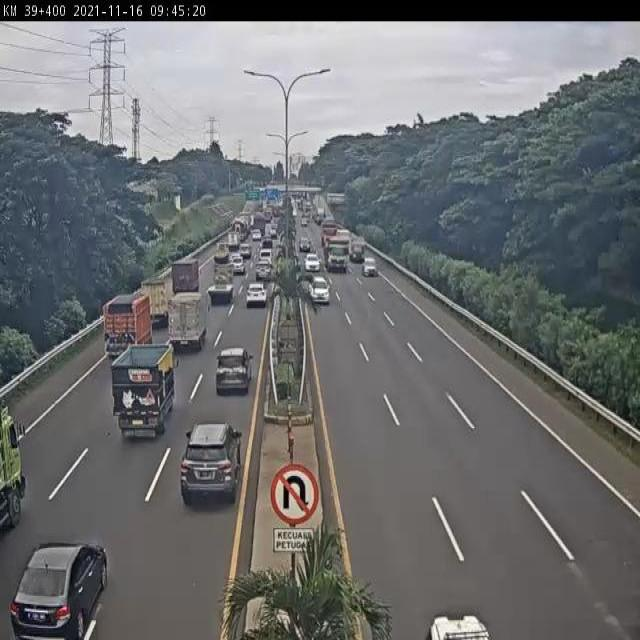car: (11, 544, 106, 640), (178, 420, 243, 503), (213, 352, 252, 400), (309, 276, 331, 304), (245, 285, 267, 312), (234, 245, 253, 268), (230, 257, 247, 279), (257, 253, 274, 270), (253, 267, 268, 285)
small truck: (164, 295, 204, 352), (138, 280, 167, 325), (169, 257, 198, 299), (206, 271, 234, 308), (212, 242, 229, 266)
truck-m-: (111, 343, 177, 437), (102, 294, 153, 358)
